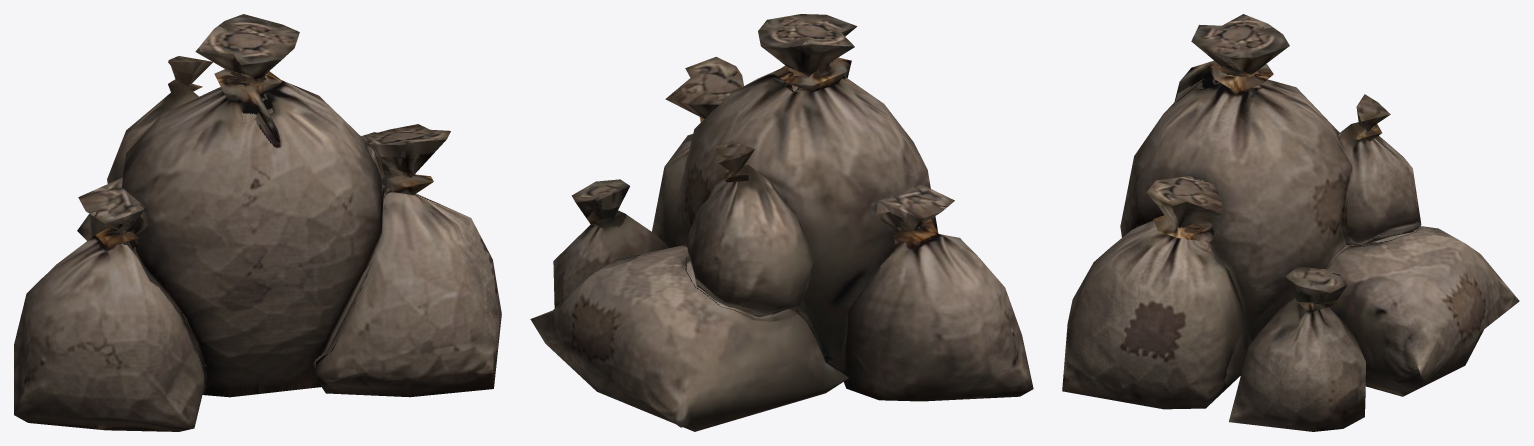
Rendered from legacy_camp-storage_sacks.glb.
The picture shows the model from 3 angles, left to right: view 1: azimuth 30°, elevation 25°; view 2: azimuth 150°, elevation 25°; view 3: azimuth 270°, elevation 25°; orthographic projection. The views are drawn at different scales.
Parts seen in each view (by area): view 1: L_camp-storage_sacks; view 2: L_camp-storage_sacks; view 3: L_camp-storage_sacks.
Part boxes in pixels (x1,y1,x2,y2): L_camp-storage_sacks: (14, 14, 501, 431); L_camp-storage_sacks: (530, 14, 1033, 431); L_camp-storage_sacks: (1062, 14, 1519, 431).
Size of the model in its own units: 1.89 by 1.31 by 1.76.
Materials: 1 (1 with a texture image).
